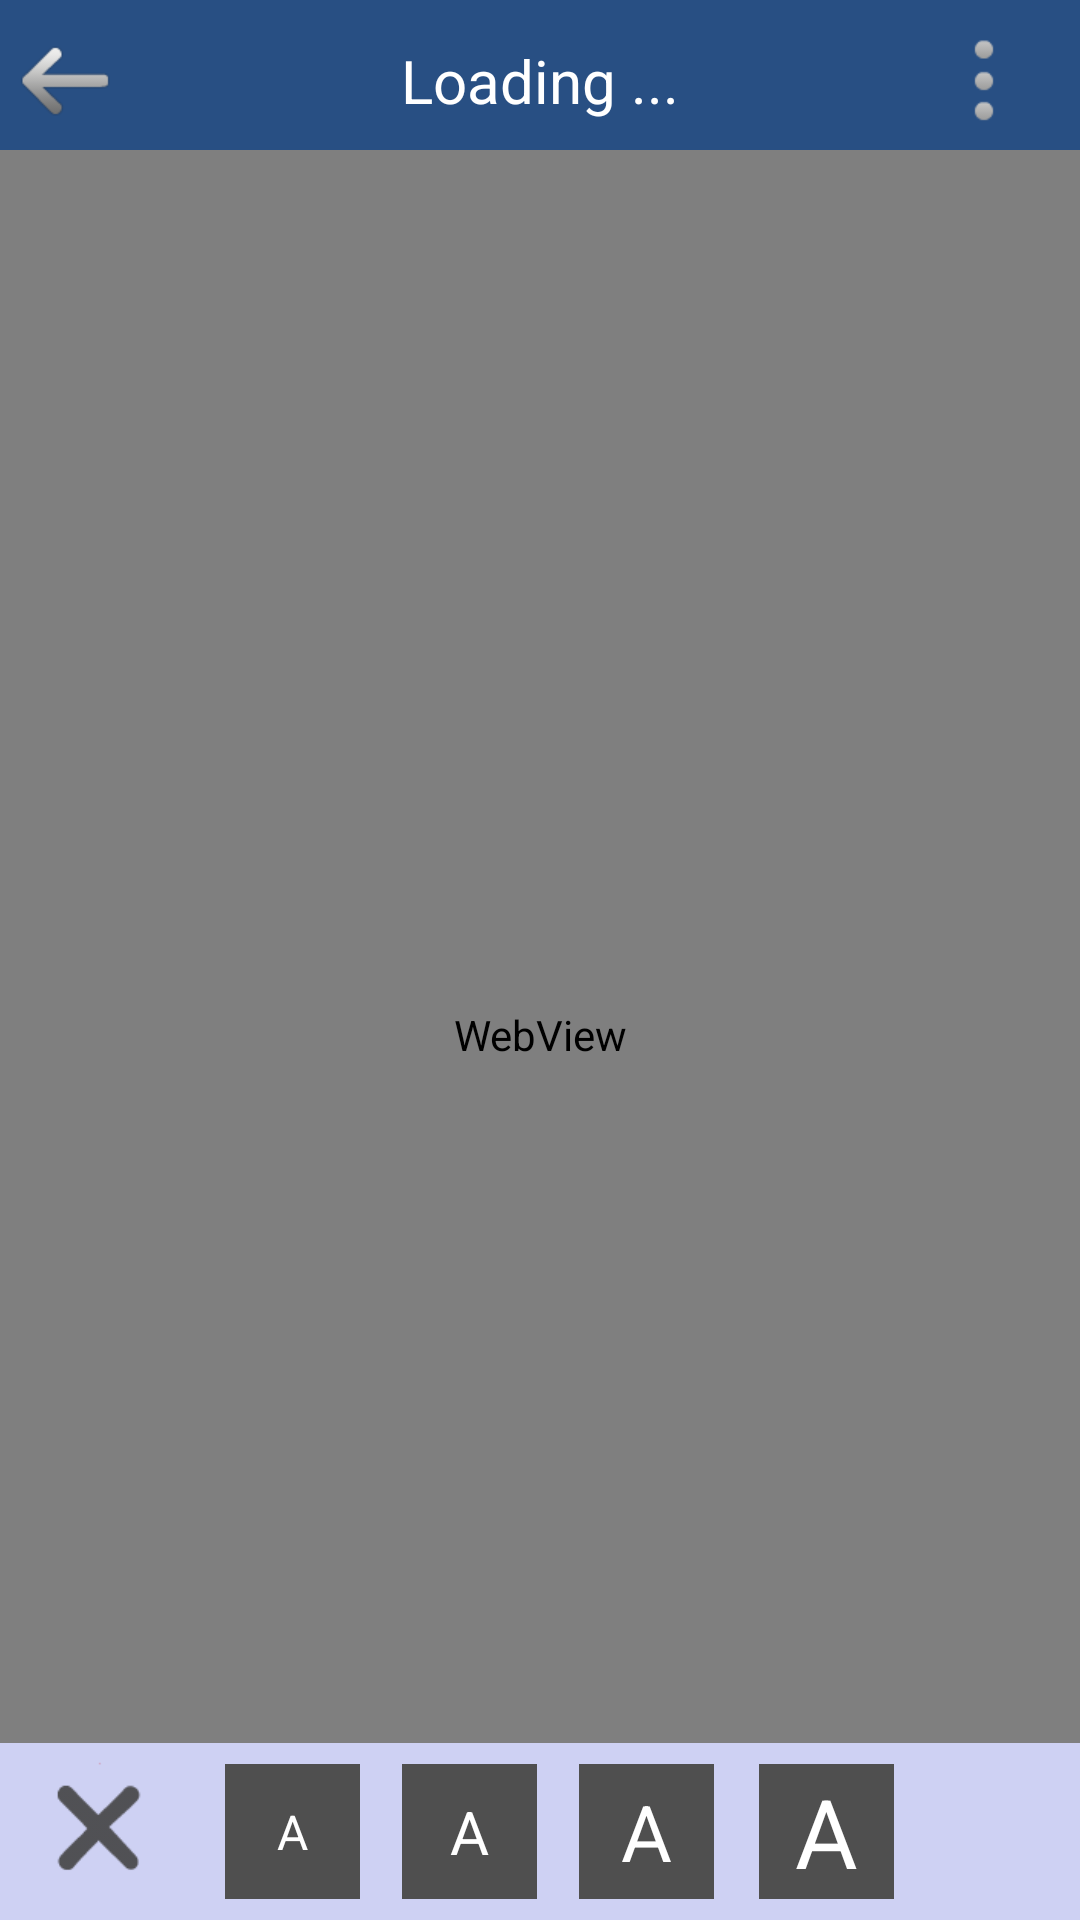

Where icons sit on this 1080px x 1920px app screen, as (x1, y1, x2, y2):
back: (22, 47, 108, 114)
